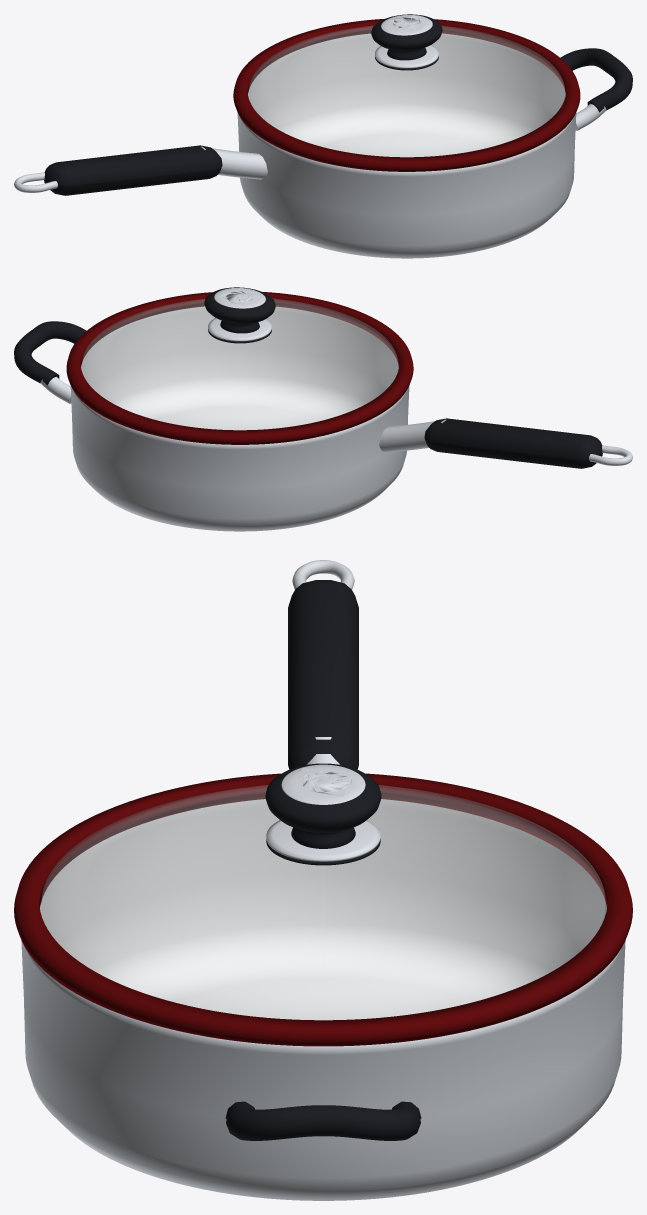
File: olla-er-3-5-cuartos.glb
3 renders of one model, top to bottom at view 1: azimuth 30°, elevation 25°; view 2: azimuth 150°, elevation 25°; view 3: azimuth 270°, elevation 25°, orthographic. The views are drawn at different scales.
Visible parts, largest first — view 1: Cuerpo con interior, Cristal de tapa, Aro rojo de la tapa, Mango largo negro, Asa negra 1, NOVEL · Pomo cerrado redondeado, Cuello de mango, NOVEL · Base cromada del pomo, Argolla metálica del mango, NOVEL · Placa superior del pomo, Soporte metálico, NOVEL · Emblema original en relieve bajo; view 2: Cuerpo con interior, Cristal de tapa, Aro rojo de la tapa, Mango largo negro, Asa negra 1, NOVEL · Pomo cerrado redondeado, Cuello de mango, NOVEL · Base cromada del pomo, Argolla metálica del mango, NOVEL · Placa superior del pomo, Soporte metálico.001, NOVEL · Emblema original en relieve bajo; view 3: Cuerpo con interior, Cristal de tapa, Aro rojo de la tapa, Mango largo negro, Asa negra 1, NOVEL · Pomo cerrado redondeado, NOVEL · Base cromada del pomo, NOVEL · Placa superior del pomo, NOVEL · Emblema original en relieve bajo, Argolla metálica del mango.
Part boxes in pixels (x1,y1,x2,y2): Cuerpo con interior: (237, 33, 576, 258); Cristal de tapa: (249, 26, 564, 156); Aro rojo de la tapa: (233, 19, 580, 171); Mango largo negro: (44, 145, 222, 195); Asa negra 1: (560, 48, 632, 112); NOVEL · Pomo cerrado redondeado: (371, 14, 442, 60); Cuello de mango: (200, 146, 267, 179); NOVEL · Base cromada del pomo: (375, 45, 438, 68); Argolla metálica del mango: (14, 172, 57, 192); NOVEL · Placa superior del pomo: (381, 15, 432, 35); Soporte metálico: (575, 103, 606, 130); NOVEL · Emblema original en relieve bajo: (388, 15, 422, 32); Cuerpo con interior: (70, 306, 409, 531); Cristal de tapa: (82, 299, 397, 429); Aro rojo de la tapa: (66, 292, 413, 444); Mango largo negro: (424, 418, 602, 468); Asa negra 1: (14, 321, 86, 385); NOVEL · Pomo cerrado redondeado: (204, 287, 275, 333); Cuello de mango: (379, 419, 446, 452); NOVEL · Base cromada del pomo: (208, 318, 271, 341); Argolla metálica del mango: (589, 445, 632, 465); NOVEL · Placa superior del pomo: (214, 288, 265, 308); Soporte metálico.001: (40, 376, 71, 403); NOVEL · Emblema original en relieve bajo: (217, 289, 262, 305); Cuerpo con interior: (21, 799, 625, 1200); Cristal de tapa: (41, 785, 605, 1019); Aro rojo de la tapa: (14, 773, 632, 1046); Mango largo negro: (288, 580, 358, 769); Asa negra 1: (225, 1101, 421, 1140); NOVEL · Pomo cerrado redondeado: (265, 763, 381, 848); NOVEL · Base cromada del pomo: (266, 820, 380, 861); NOVEL · Placa superior del pomo: (281, 764, 365, 804); NOVEL · Emblema original en relieve bajo: (294, 768, 352, 797); Argolla metálica del mango: (292, 560, 354, 589).
Size of the model in its own units: 0.5431 by 0.1482 by 0.271.
